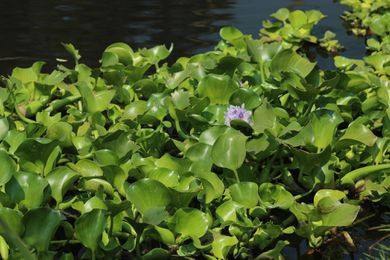water_hyacinth: (1, 8, 389, 258)
